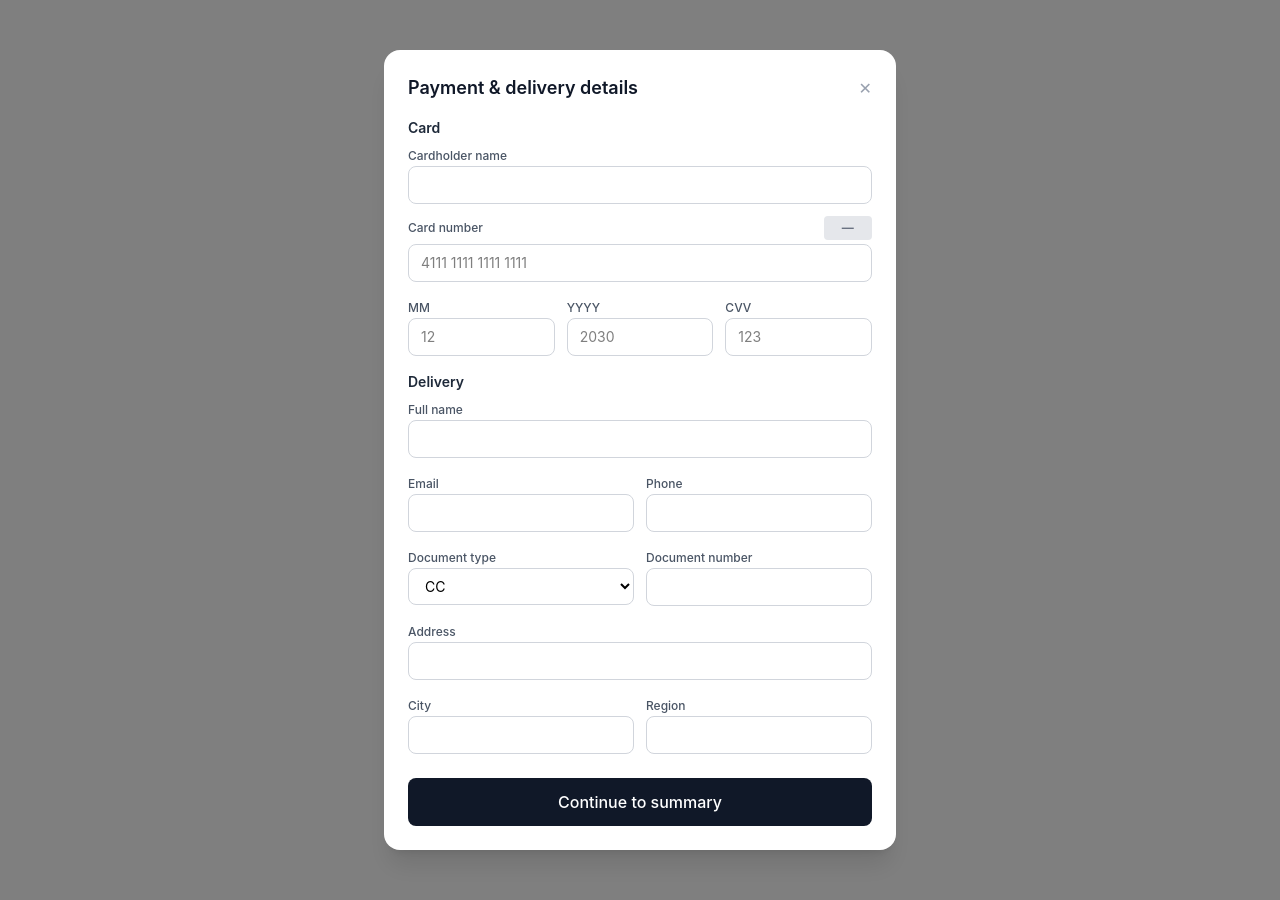
Test: CheckoutModal › shows validation errors when submitting an empty form
Click the button "Continue to summary" at (640, 802), box [408,778,872,826]
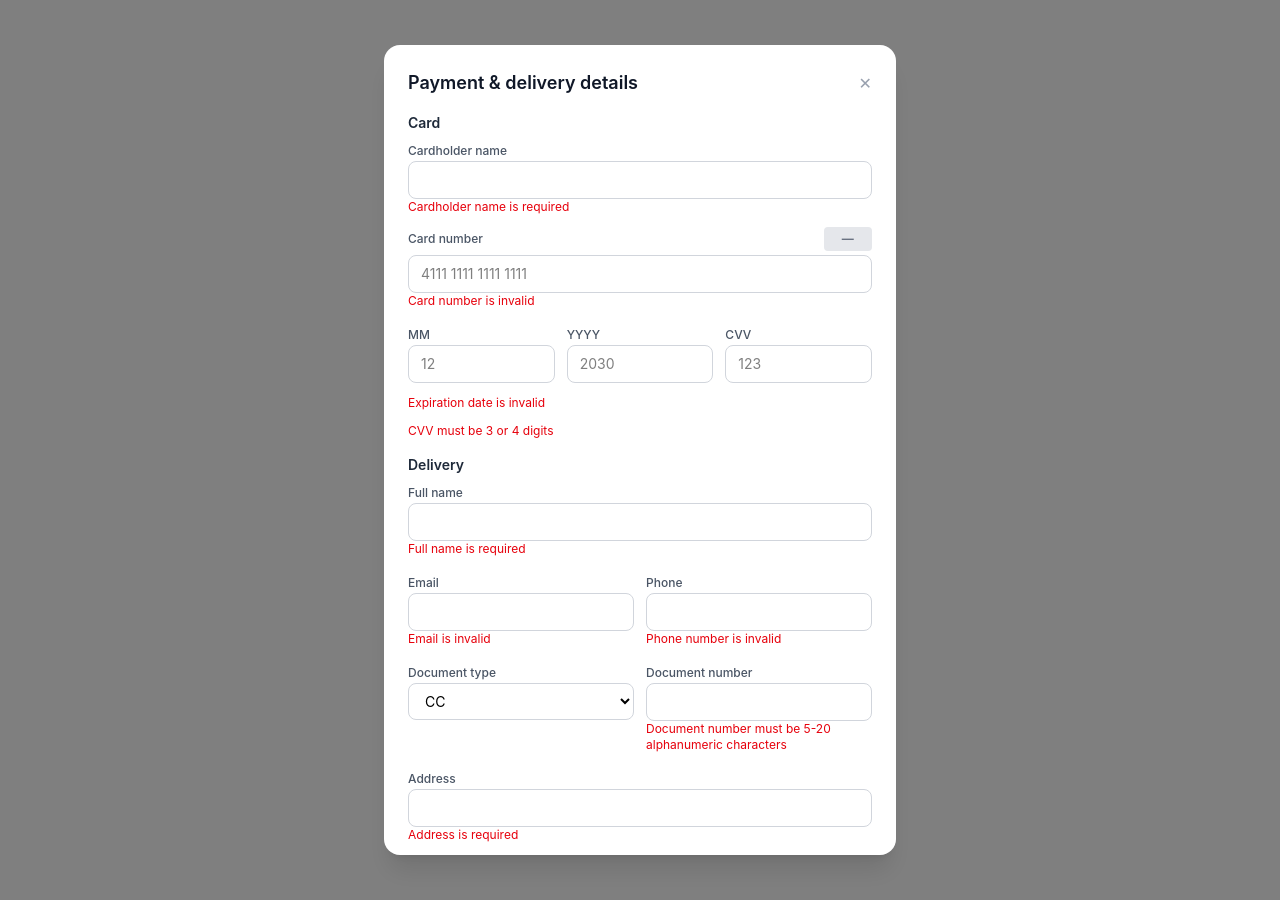
Now the text "Card number is invalid" is shown, box [408,293,534,308]
Now the text "Full name is required" is shown, box [408,541,526,556]
